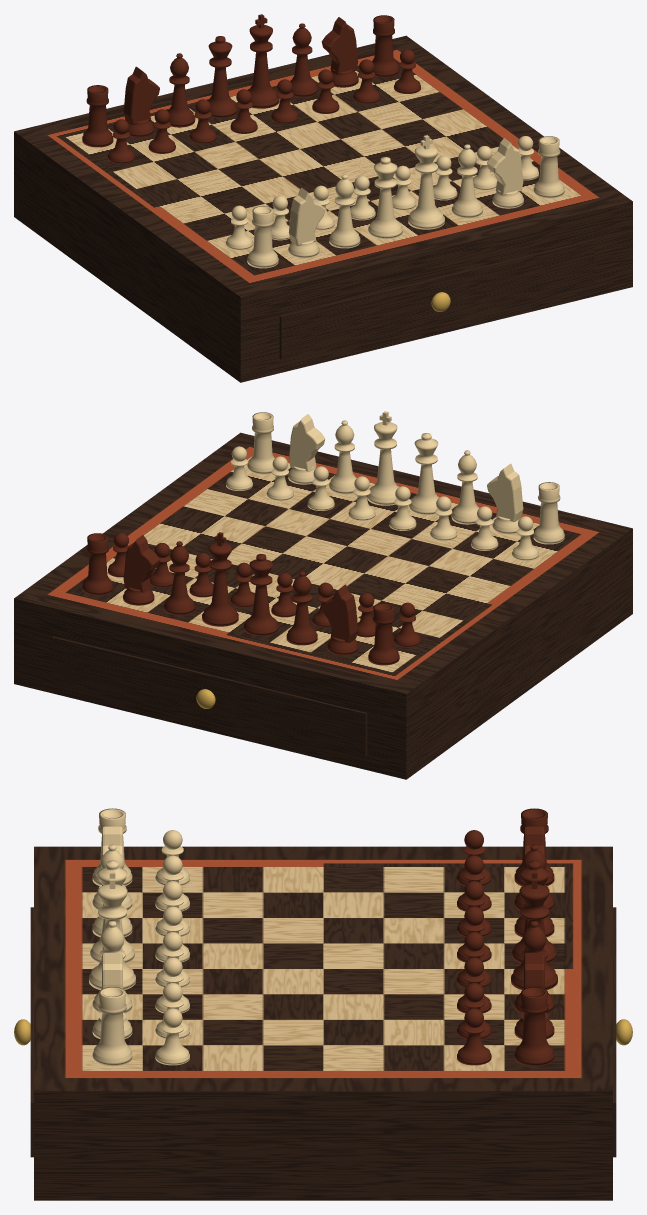
Rendered from philidor-3d-noyer-erable-24.glb.
3 renders of one model, top to bottom at view 1: azimuth 30°, elevation 25°; view 2: azimuth 150°, elevation 25°; view 3: azimuth 270°, elevation 25°, orthographic. The views are drawn at different scales.
Parts seen in each view (by area): view 1: noyer-erable-24; view 2: noyer-erable-24; view 3: noyer-erable-24.
Boxes of the visible parts, bbox=[...] form: noyer-erable-24: bbox=[14, 14, 632, 382]; noyer-erable-24: bbox=[14, 411, 632, 779]; noyer-erable-24: bbox=[14, 808, 632, 1200].
Size of what is drawn, in the model's own units: 0.24 by 0.1 by 0.2567.
Materials: 6 (3 with a texture image).
